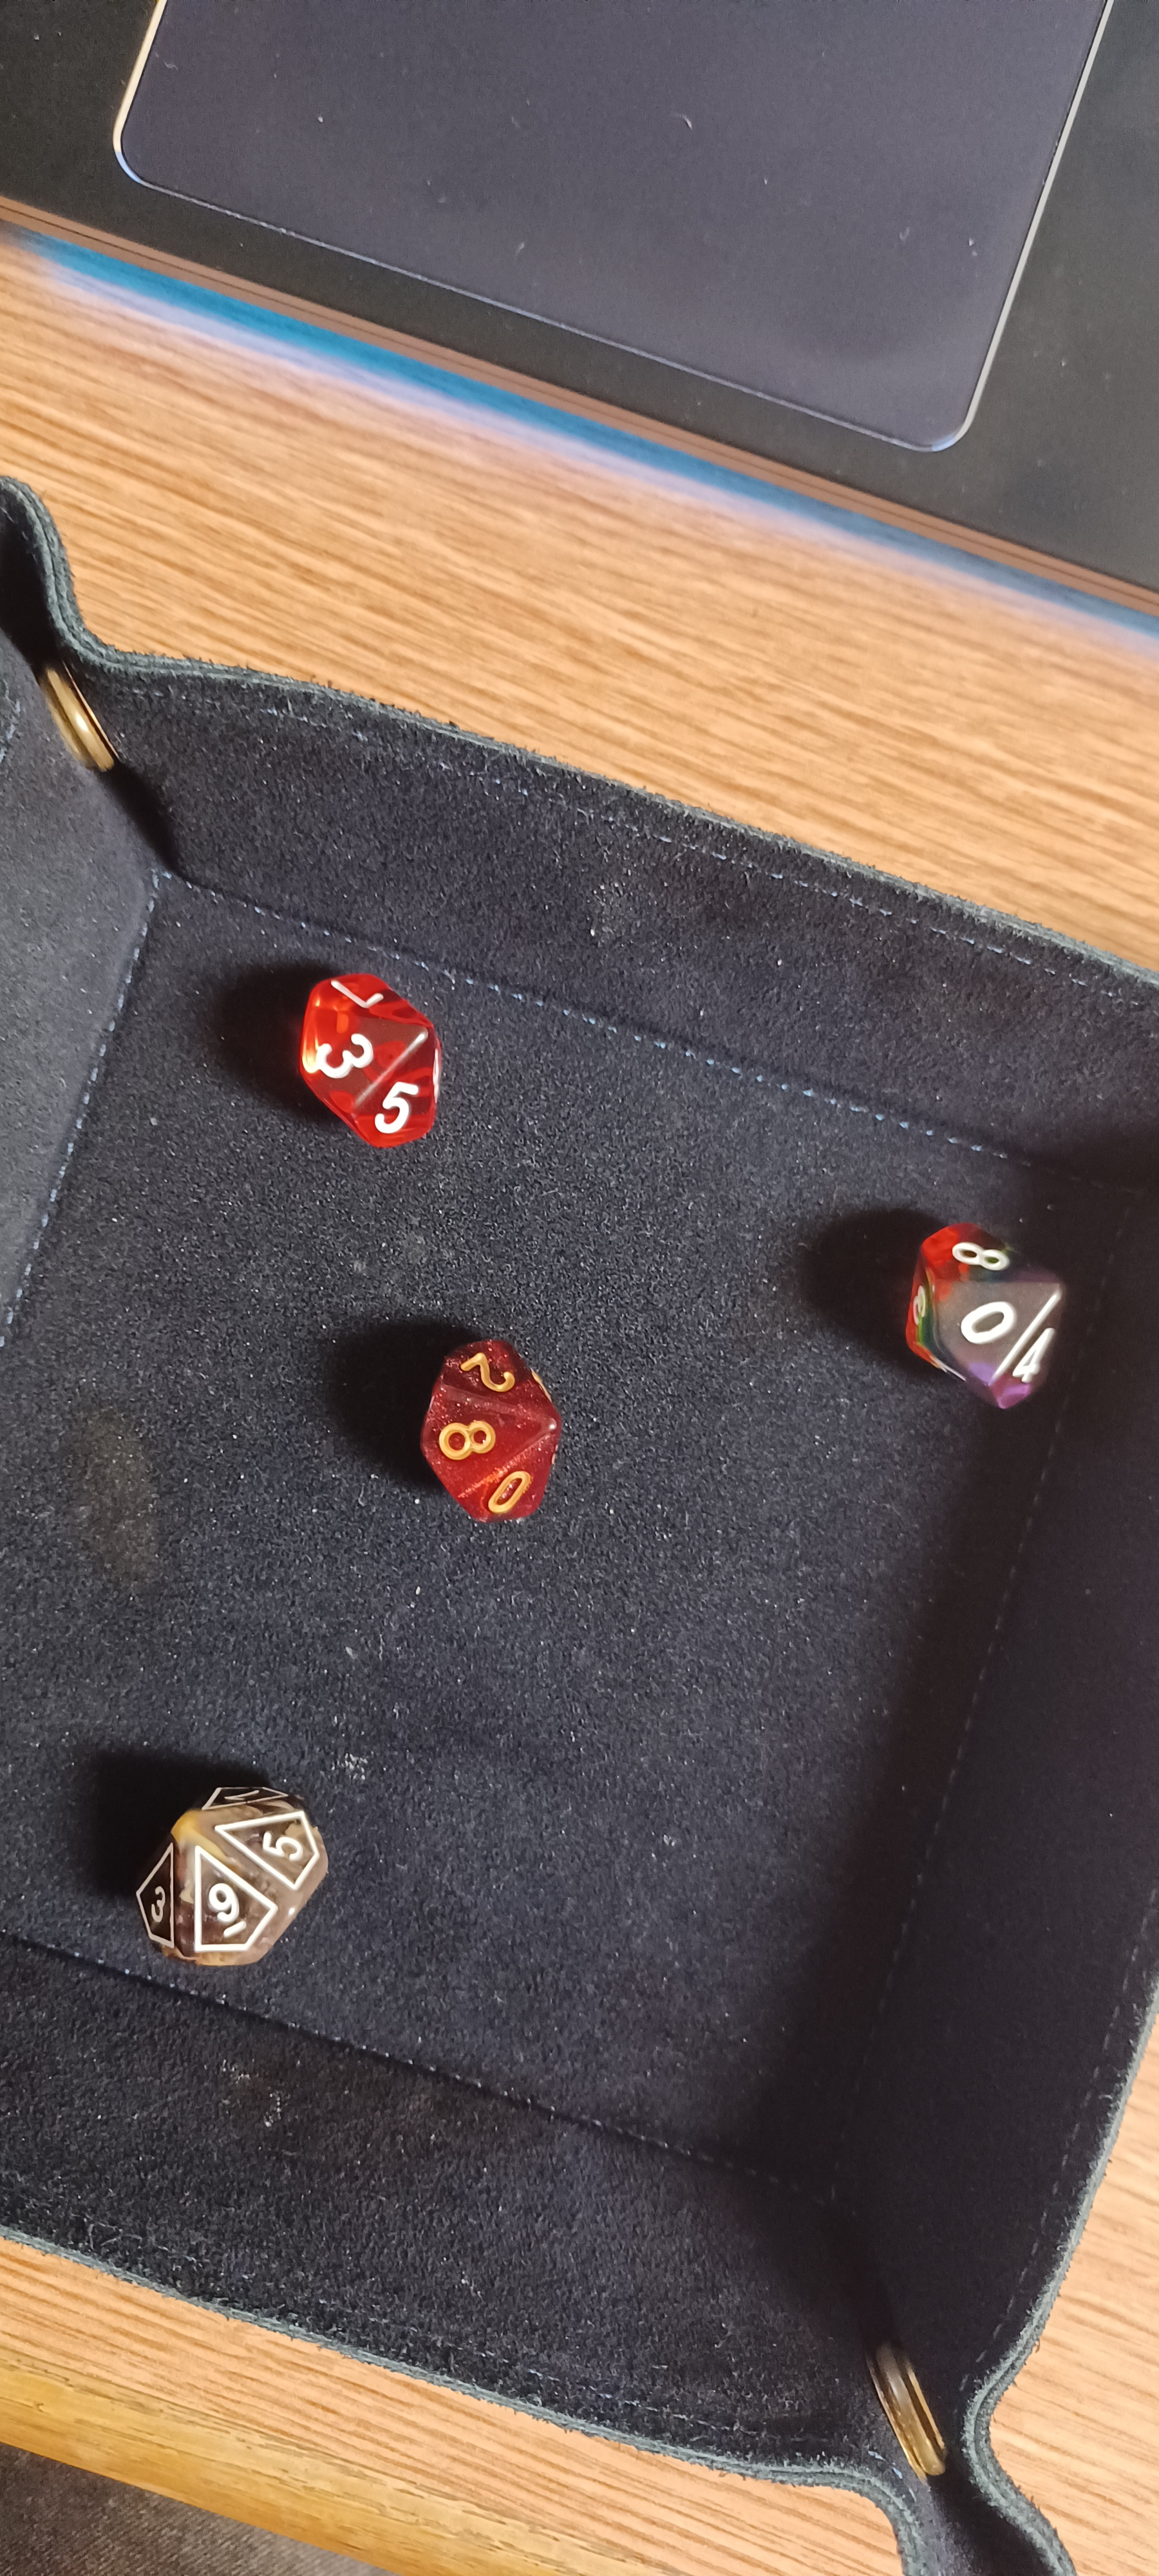eight: (371, 1296, 609, 1567)
nine: (69, 1741, 361, 2032)
three: (236, 935, 474, 1165)
zero: (836, 1181, 1118, 1428)
